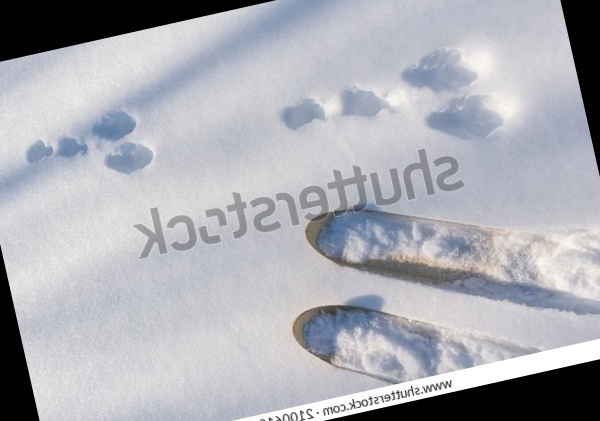rabbit: (1, 63, 177, 218)
